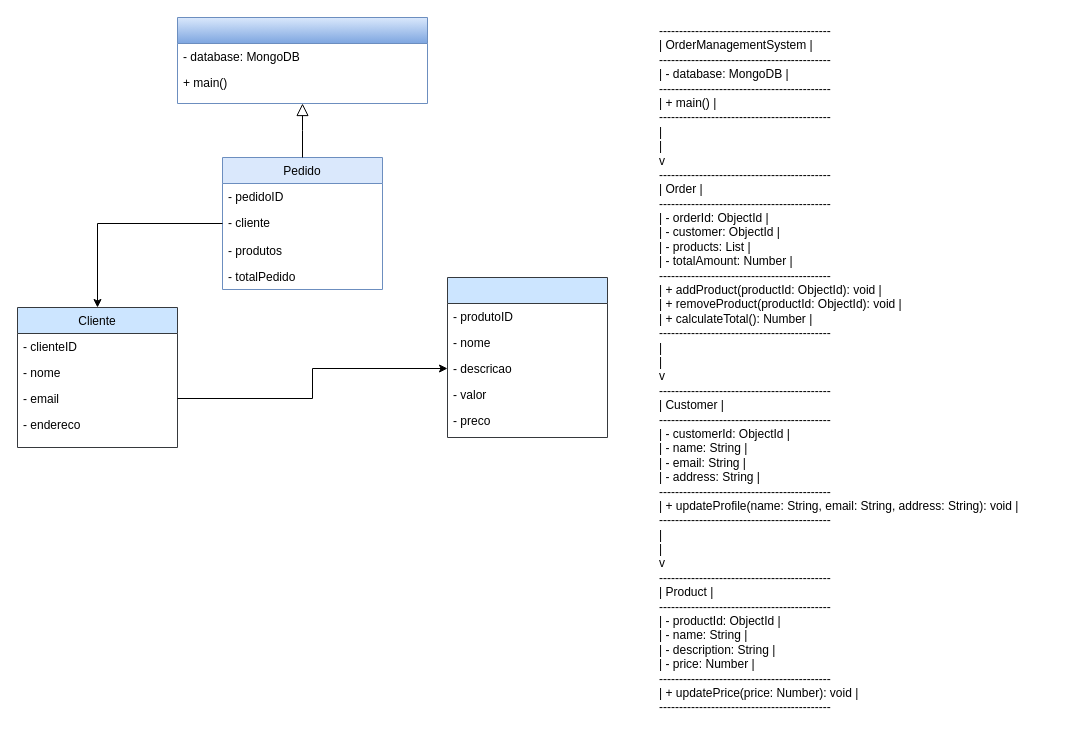
Image size: 1065x745. Some labels were removed from this diagram. The box of each missing label's shape, as (x1, y1, x2, y2) in pixels:
Produtos: (446, 276, 608, 438)
Sistema de Gerenciamento de Pedidos: (176, 16, 428, 104)
